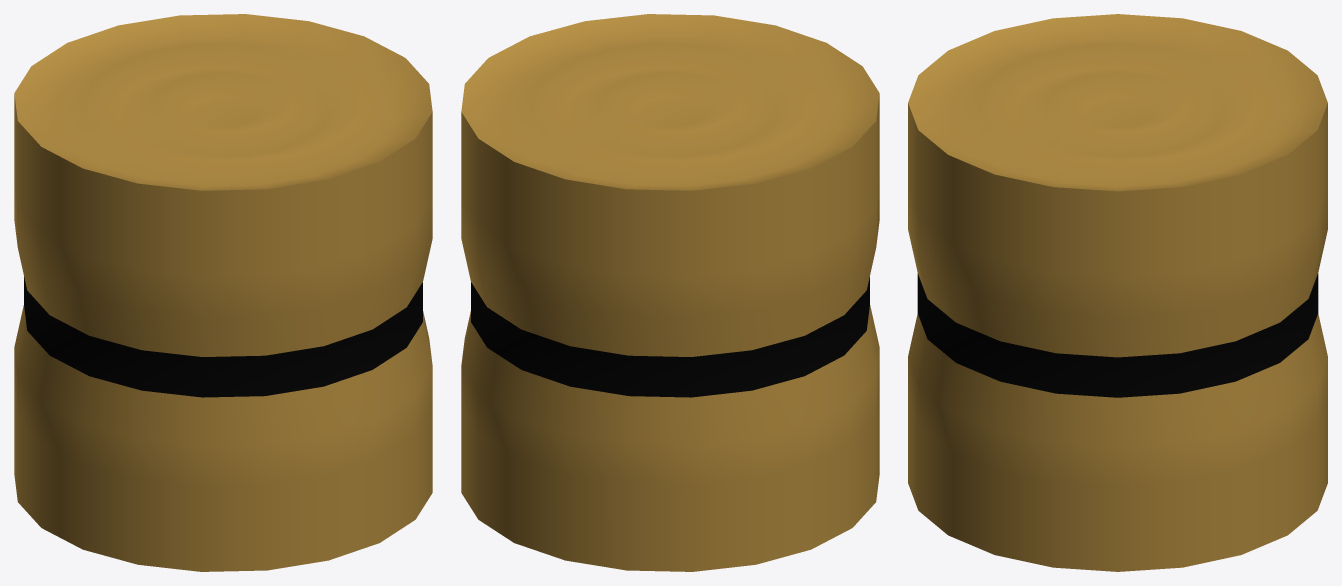
File: hay_bale_lowpoly.glb
3 views of the same model, side by side, from view 1: azimuth 30°, elevation 25°; view 2: azimuth 150°, elevation 25°; view 3: azimuth 270°, elevation 25° (orthographic).
Visible parts, largest first — view 1: pCylinder146; view 2: pCylinder146; view 3: pCylinder146.
Boxes of the visible parts, x1,y1,x2,y2 form: pCylinder146: (14,14,432,571); pCylinder146: (461,14,879,571); pCylinder146: (908,14,1327,571).
Size of the model in its own units: 0.5466 by 0.5466 by 0.5466.
